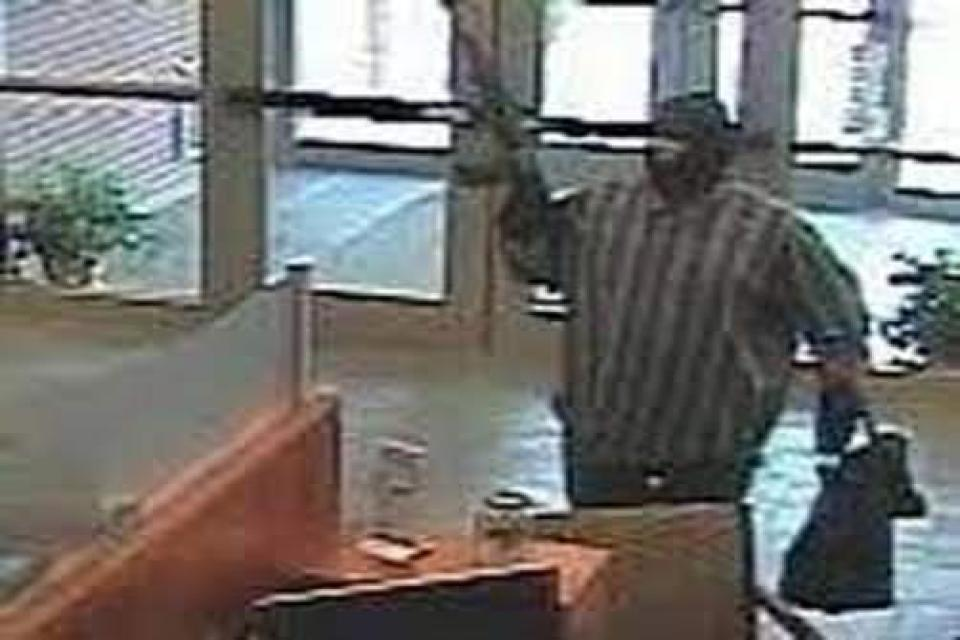non-violence: (502, 86, 878, 507)
weapon: (426, 0, 593, 309)
